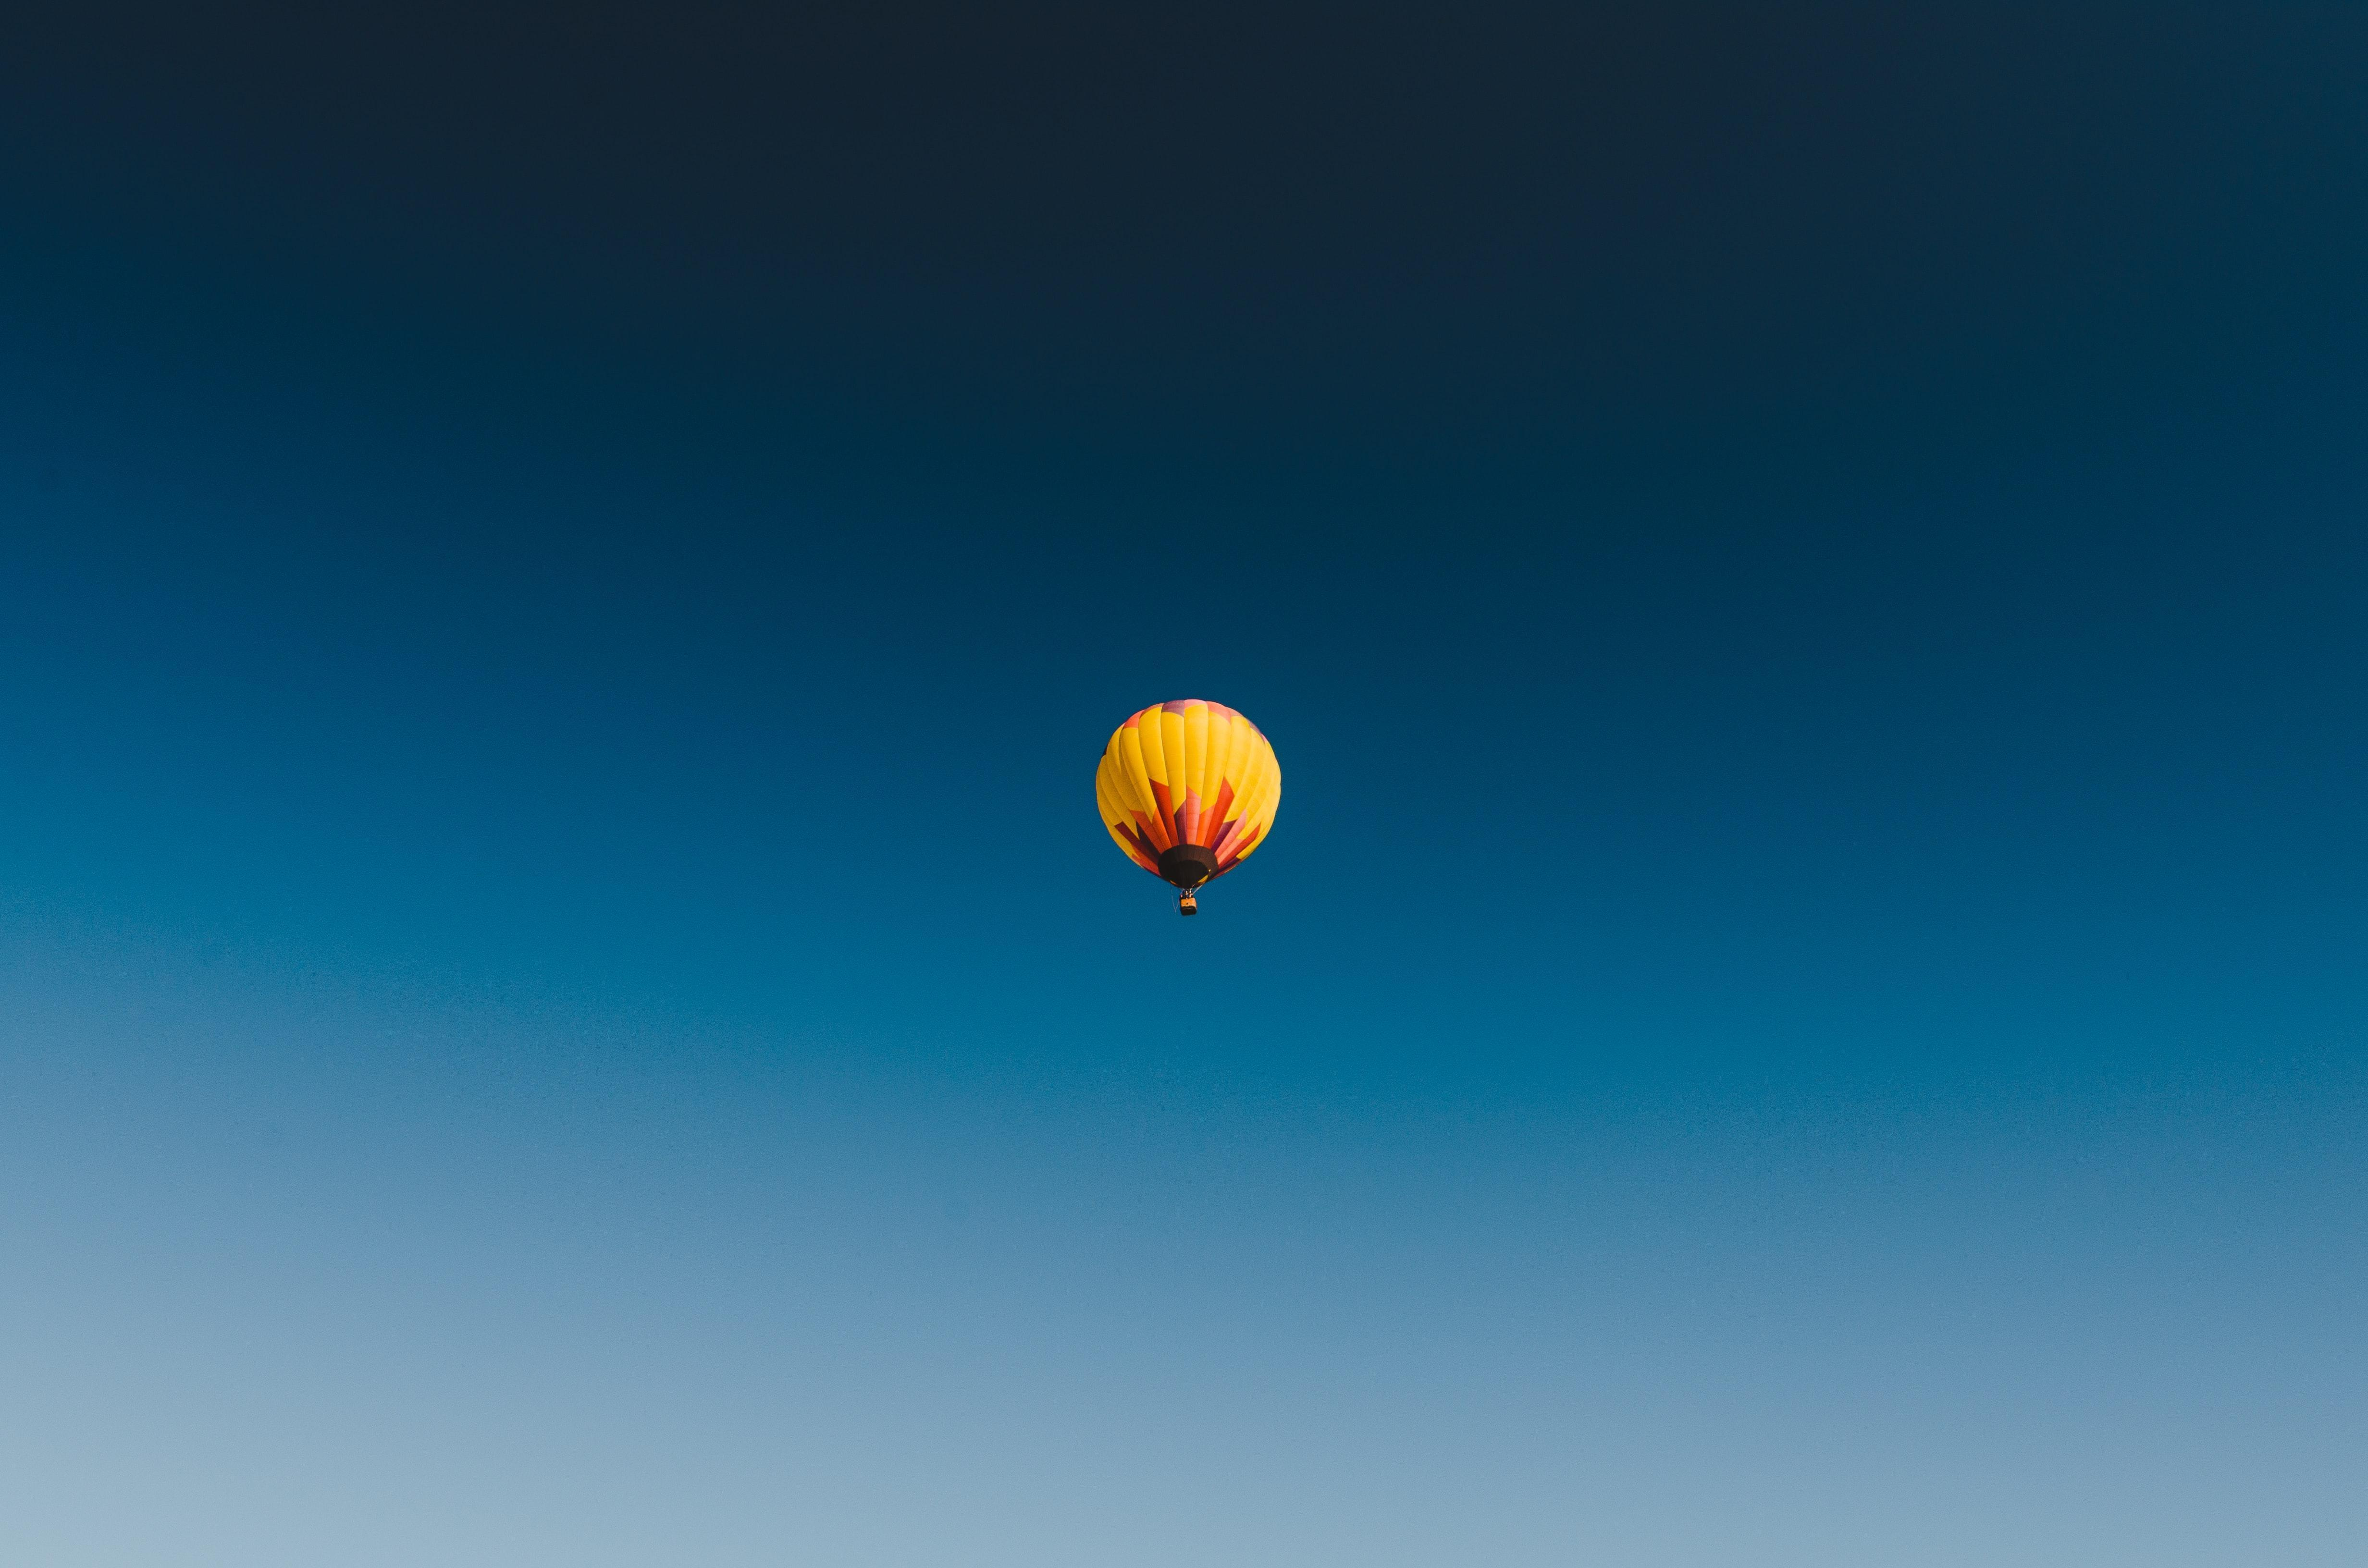hot air ballon: (1092, 684, 1285, 919)
